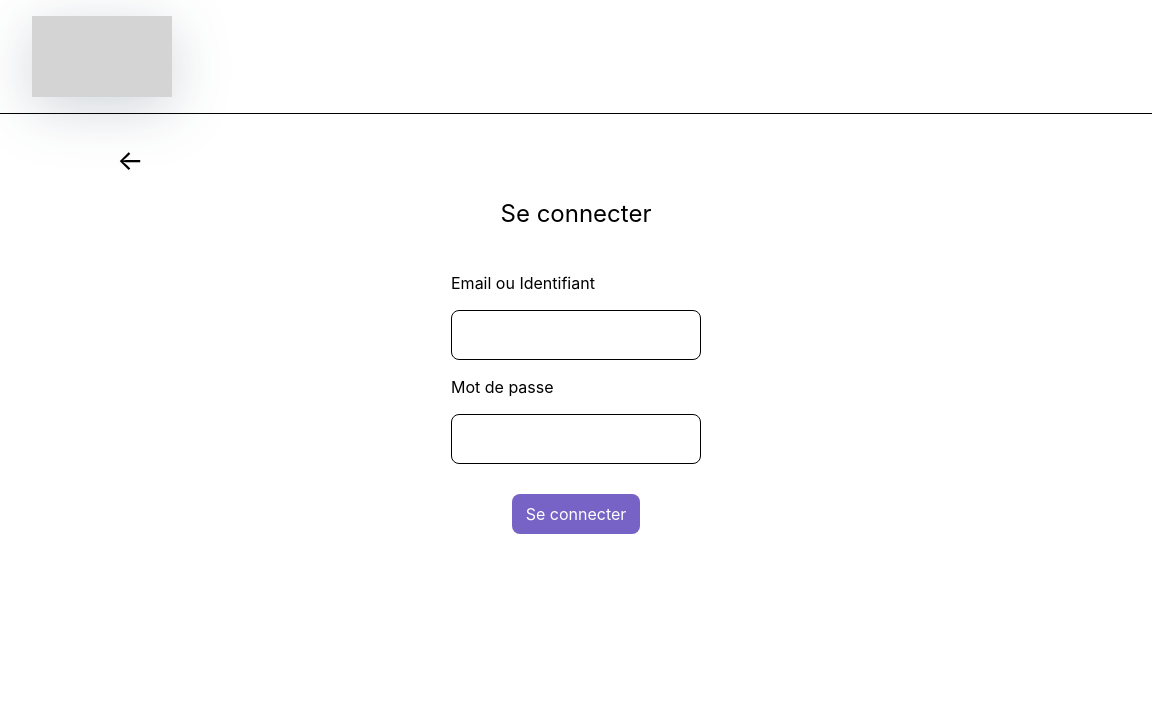
Test: Authentication flow › shows error on invalid login
Type "bad-user" into the field named "identifier". click: (576, 335)
box: [451,310,701,360]
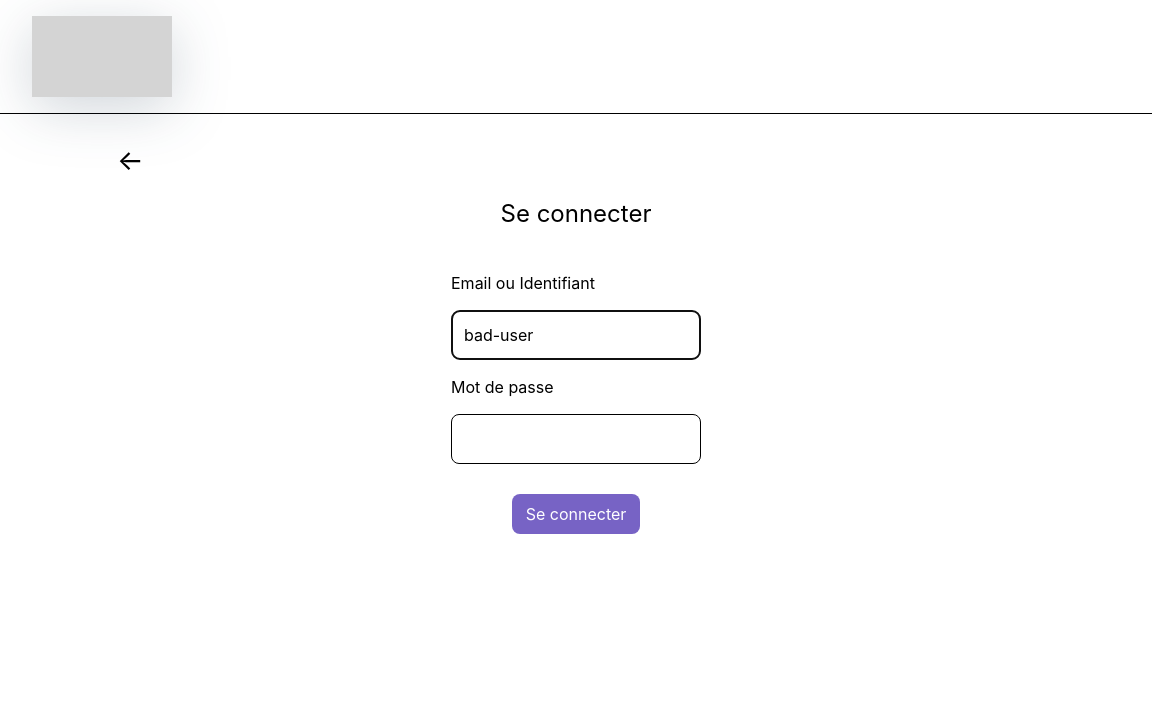
Type "badPass" into the password field named "password". click: (576, 439)
box: [451,414,701,464]
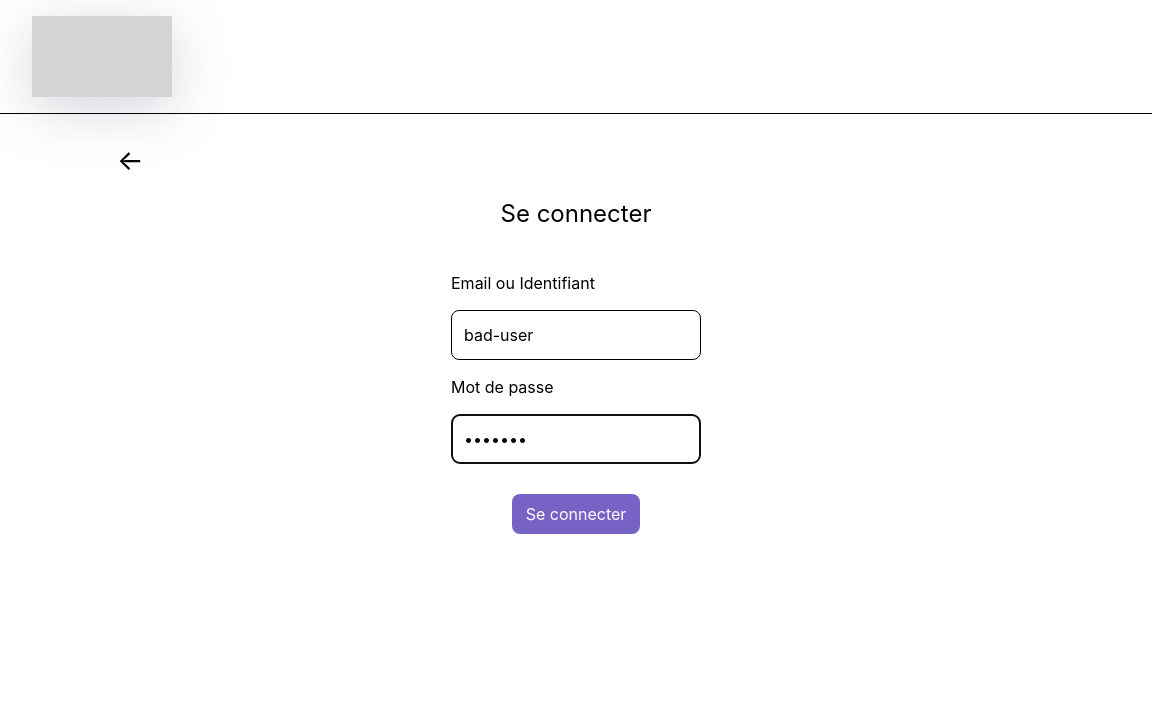
Click the submit button. click: (576, 514)
box: [512,494,640,534]
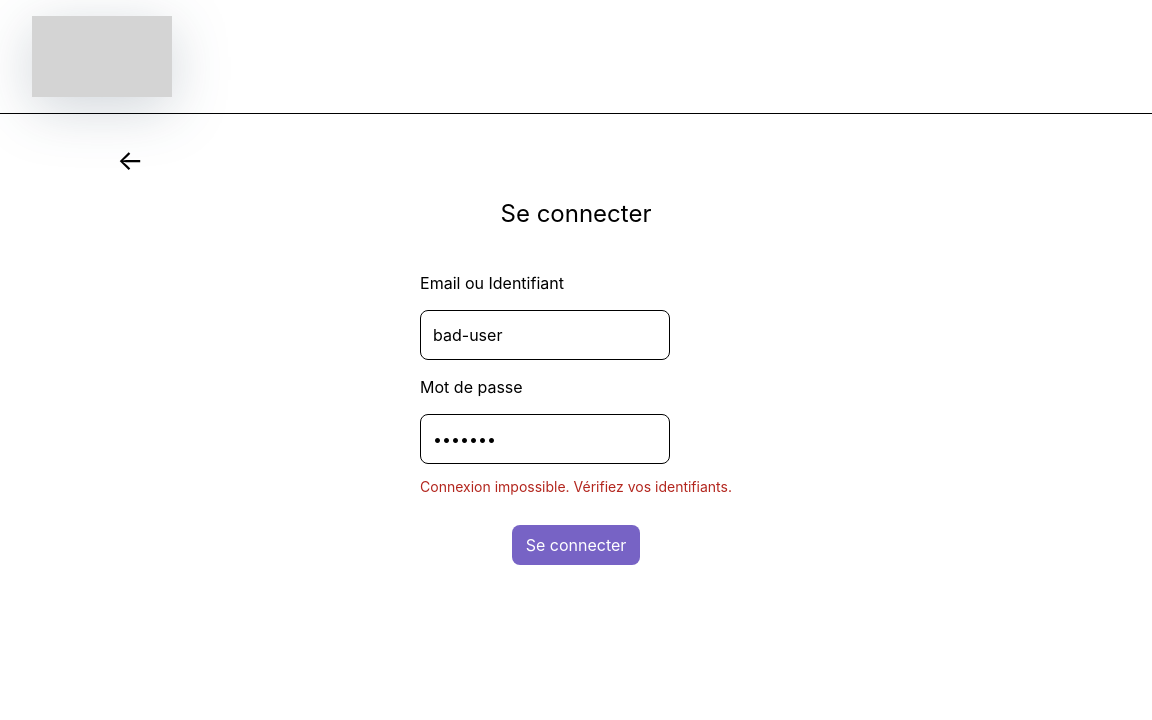
Result: the text "Connexion impossible. Vérifiez vos identifiants." is shown at [420,478,732,495]
